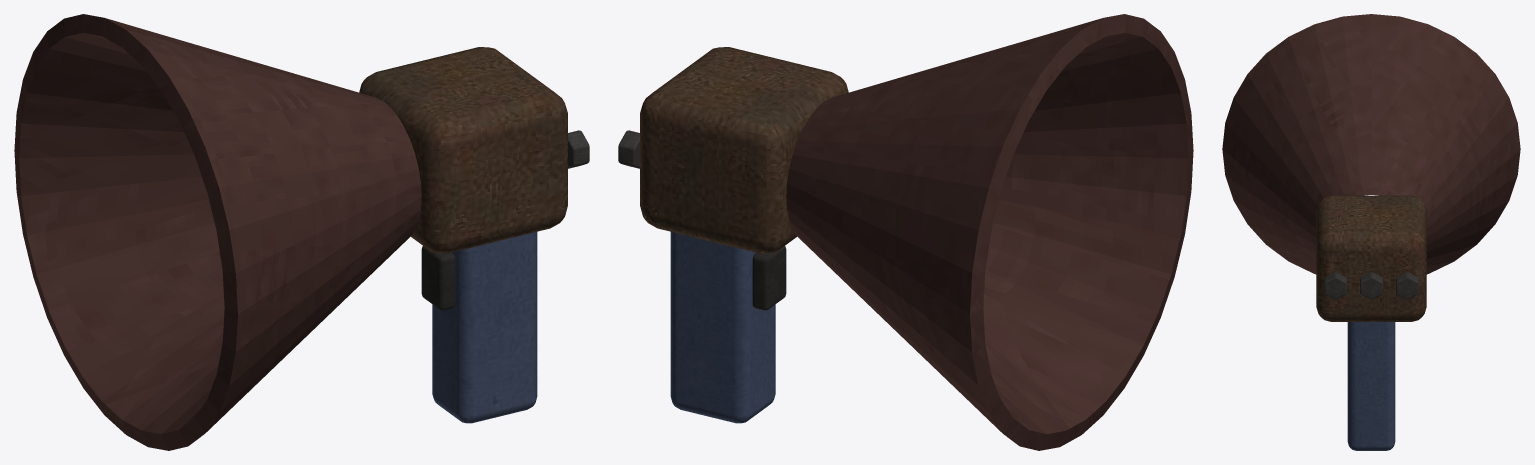
The model's file is shop-megaphone.glb.
The picture shows the model from 3 angles, left to right: view 1: azimuth 30°, elevation 25°; view 2: azimuth 150°, elevation 25°; view 3: azimuth 270°, elevation 25°; orthographic projection. The views are drawn at different scales.
Visible parts, largest first — view 1: Megaphone bell, Amplifier, Grip, Trigger, Hex bolt.002; view 2: Megaphone bell, Amplifier, Grip, Trigger, Hex bolt; view 3: Megaphone bell, Amplifier, Grip, Hex bolt, Hex bolt.001, Hex bolt.002.
Boxes of the visible parts, left/top/right/bottom form: Megaphone bell: left=14, top=14, right=421, bottom=450; Amplifier: left=359, top=47, right=567, bottom=253; Grip: left=432, top=232, right=537, bottom=423; Trigger: left=421, top=246, right=455, bottom=310; Hex bolt.002: left=568, top=130, right=589, bottom=168; Megaphone bell: left=786, top=14, right=1193, bottom=450; Amplifier: left=640, top=47, right=848, bottom=253; Grip: left=670, top=232, right=775, bottom=423; Trigger: left=752, top=246, right=786, bottom=310; Hex bolt: left=618, top=130, right=639, bottom=168; Megaphone bell: left=1222, top=14, right=1520, bottom=274; Amplifier: left=1316, top=195, right=1426, bottom=321; Grip: left=1347, top=322, right=1395, bottom=450; Hex bolt: left=1396, top=272, right=1418, bottom=299; Hex bolt.001: left=1360, top=272, right=1382, bottom=299; Hex bolt.002: left=1324, top=272, right=1346, bottom=299.
Size of the model in its own units: 0.302 by 0.31 by 0.27.
5 materials, 5 textured.
